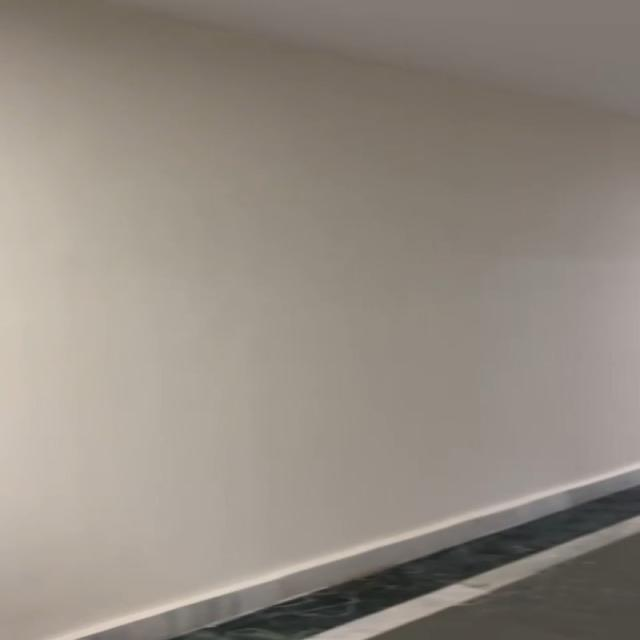floor: (289, 541, 640, 640)
wall: (0, 0, 640, 515)
